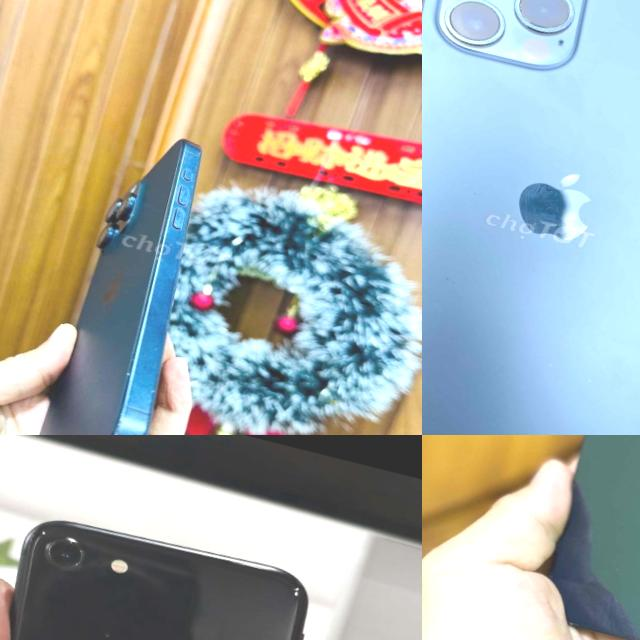scratch: (148, 388, 158, 396), (110, 427, 119, 435), (125, 368, 132, 377), (152, 344, 158, 352)
